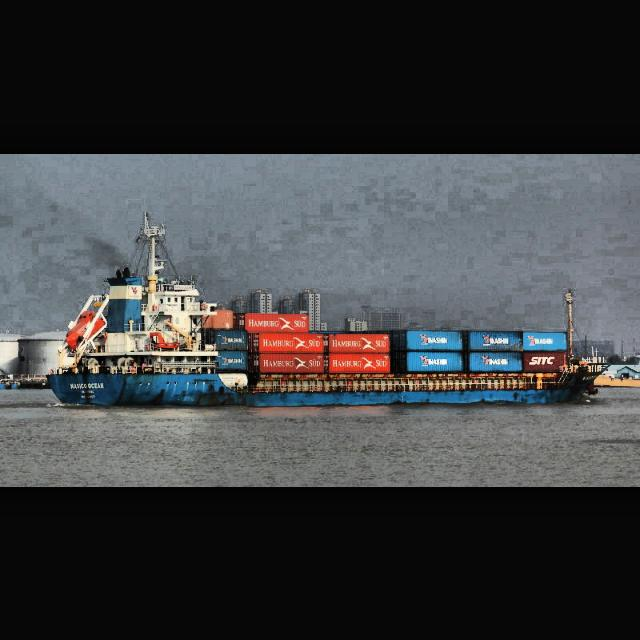container: (45, 209, 611, 407)
